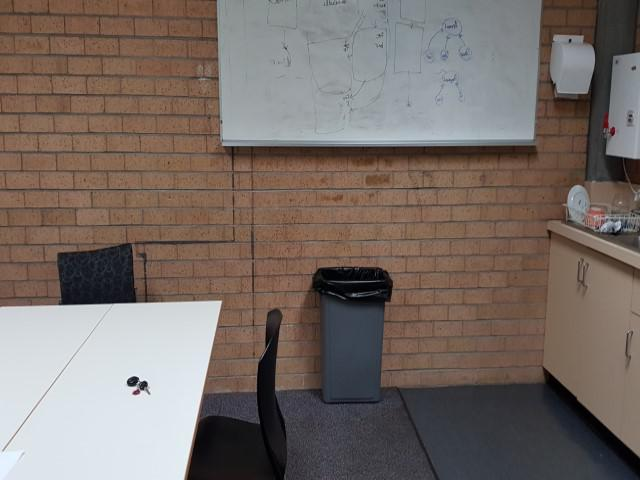key: (140, 381, 150, 394)
